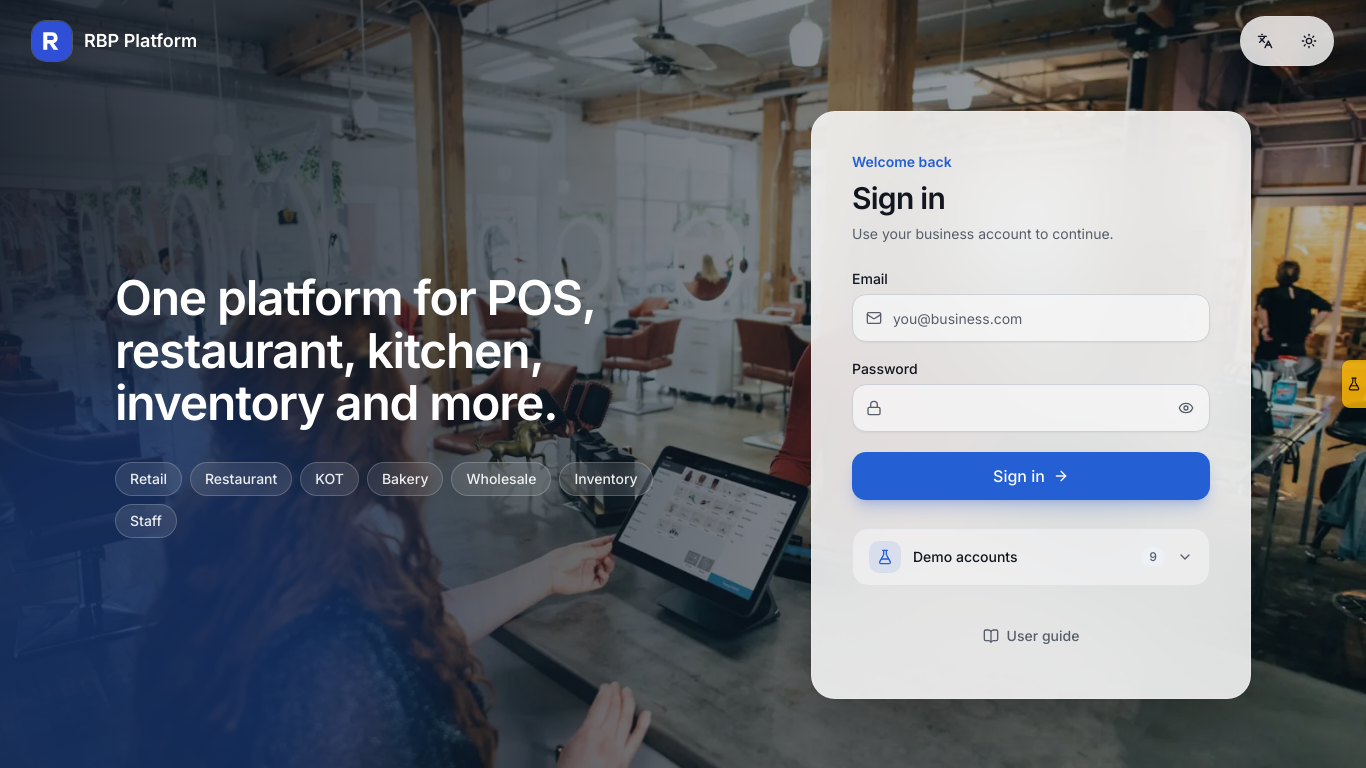
Test: app shell flow › single-location cashier skips location selection and gets 403 on settings (SCN-006)
In the field labelled "Email": (1031, 318) 852,294 -> 1210,342, type "cashier@pilot.demo"
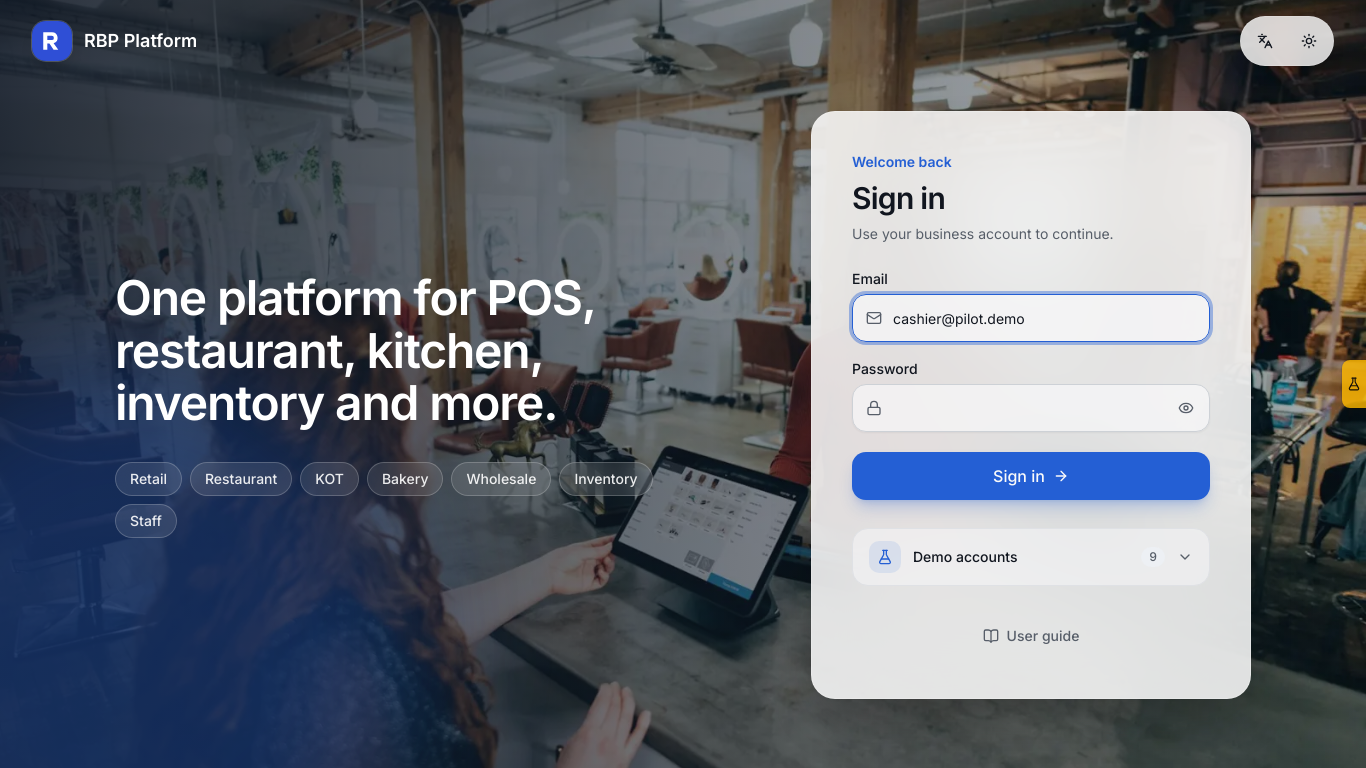
In the password field labelled "Password": (1031, 408) 852,384 -> 1210,432, type "demo1234"
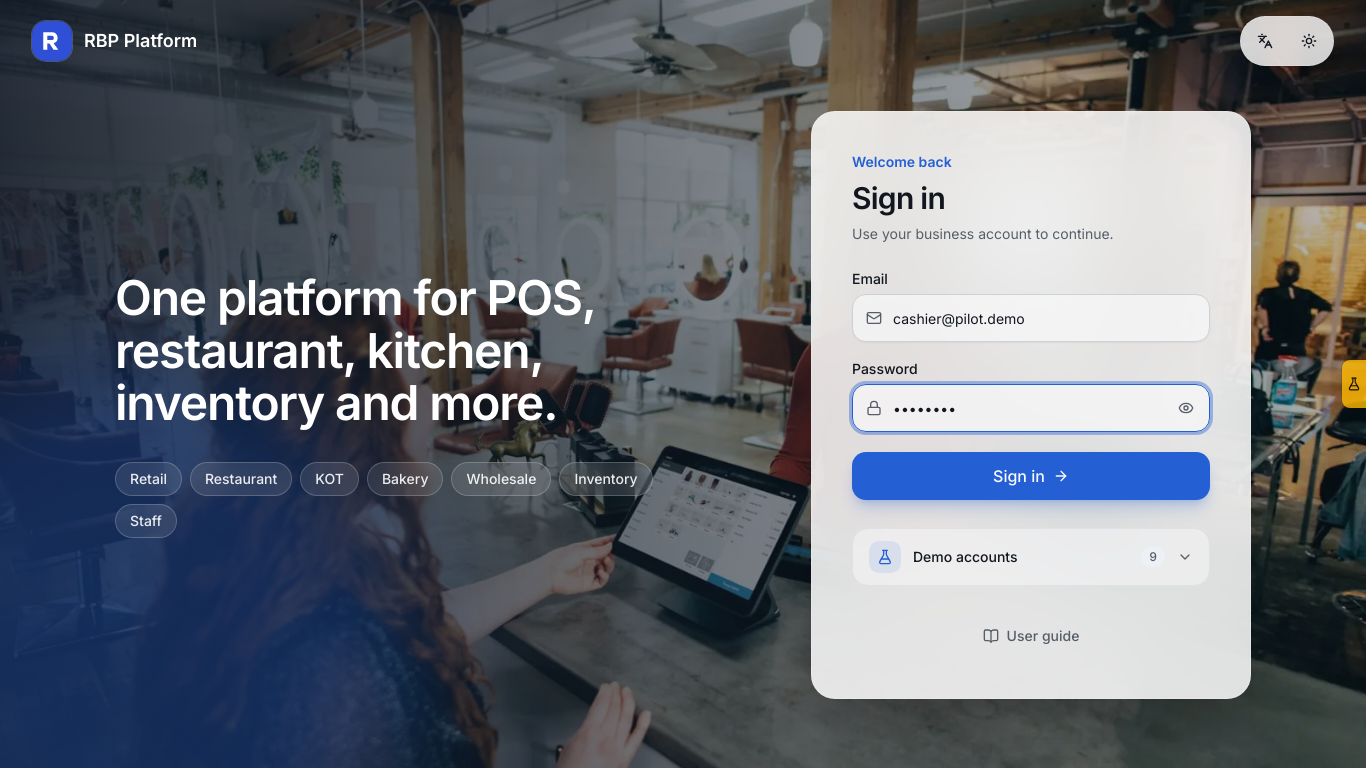
Click the button "Sign in": click(1031, 476) 852,452 -> 1210,500
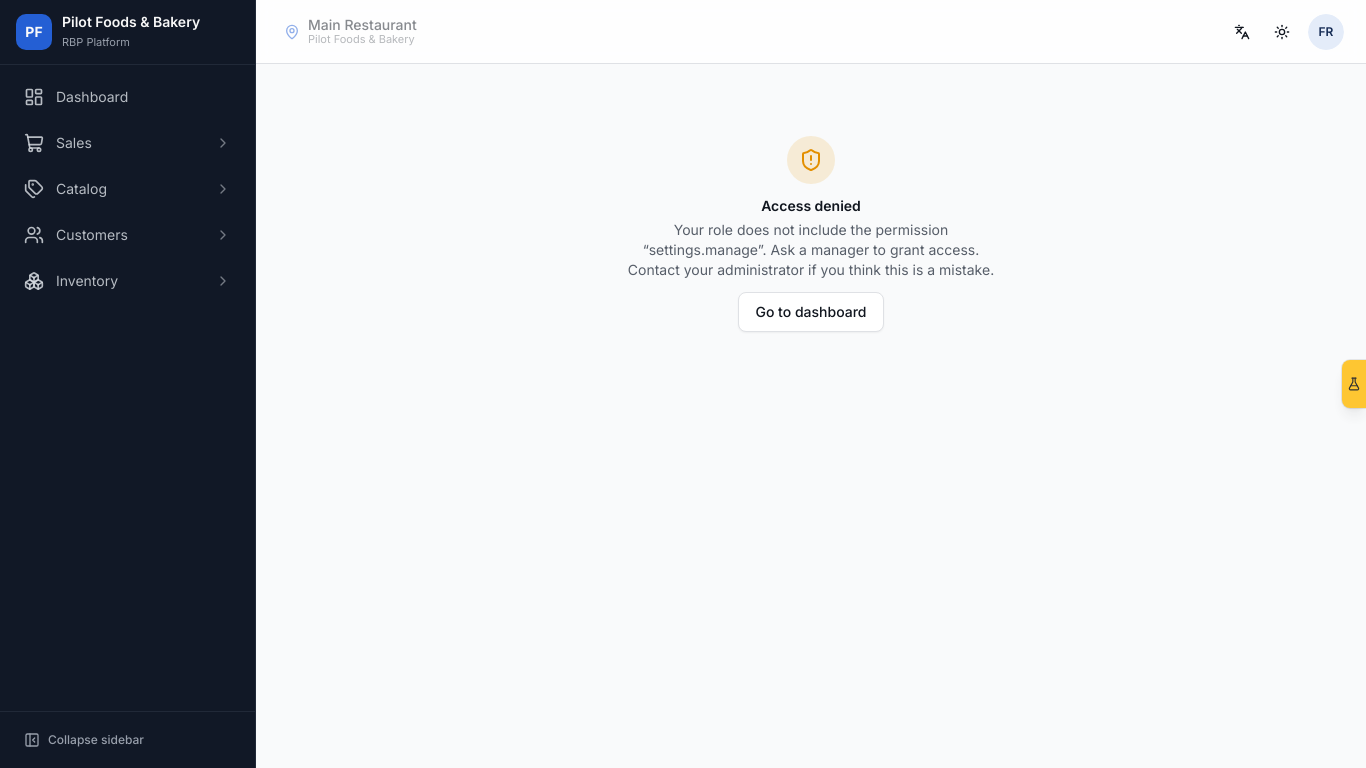
expect the text "Access denied" is shown: met, box 761,197 -> 861,214
expect the text "settings.manage" is shown: met, box 643,221 -> 979,258
